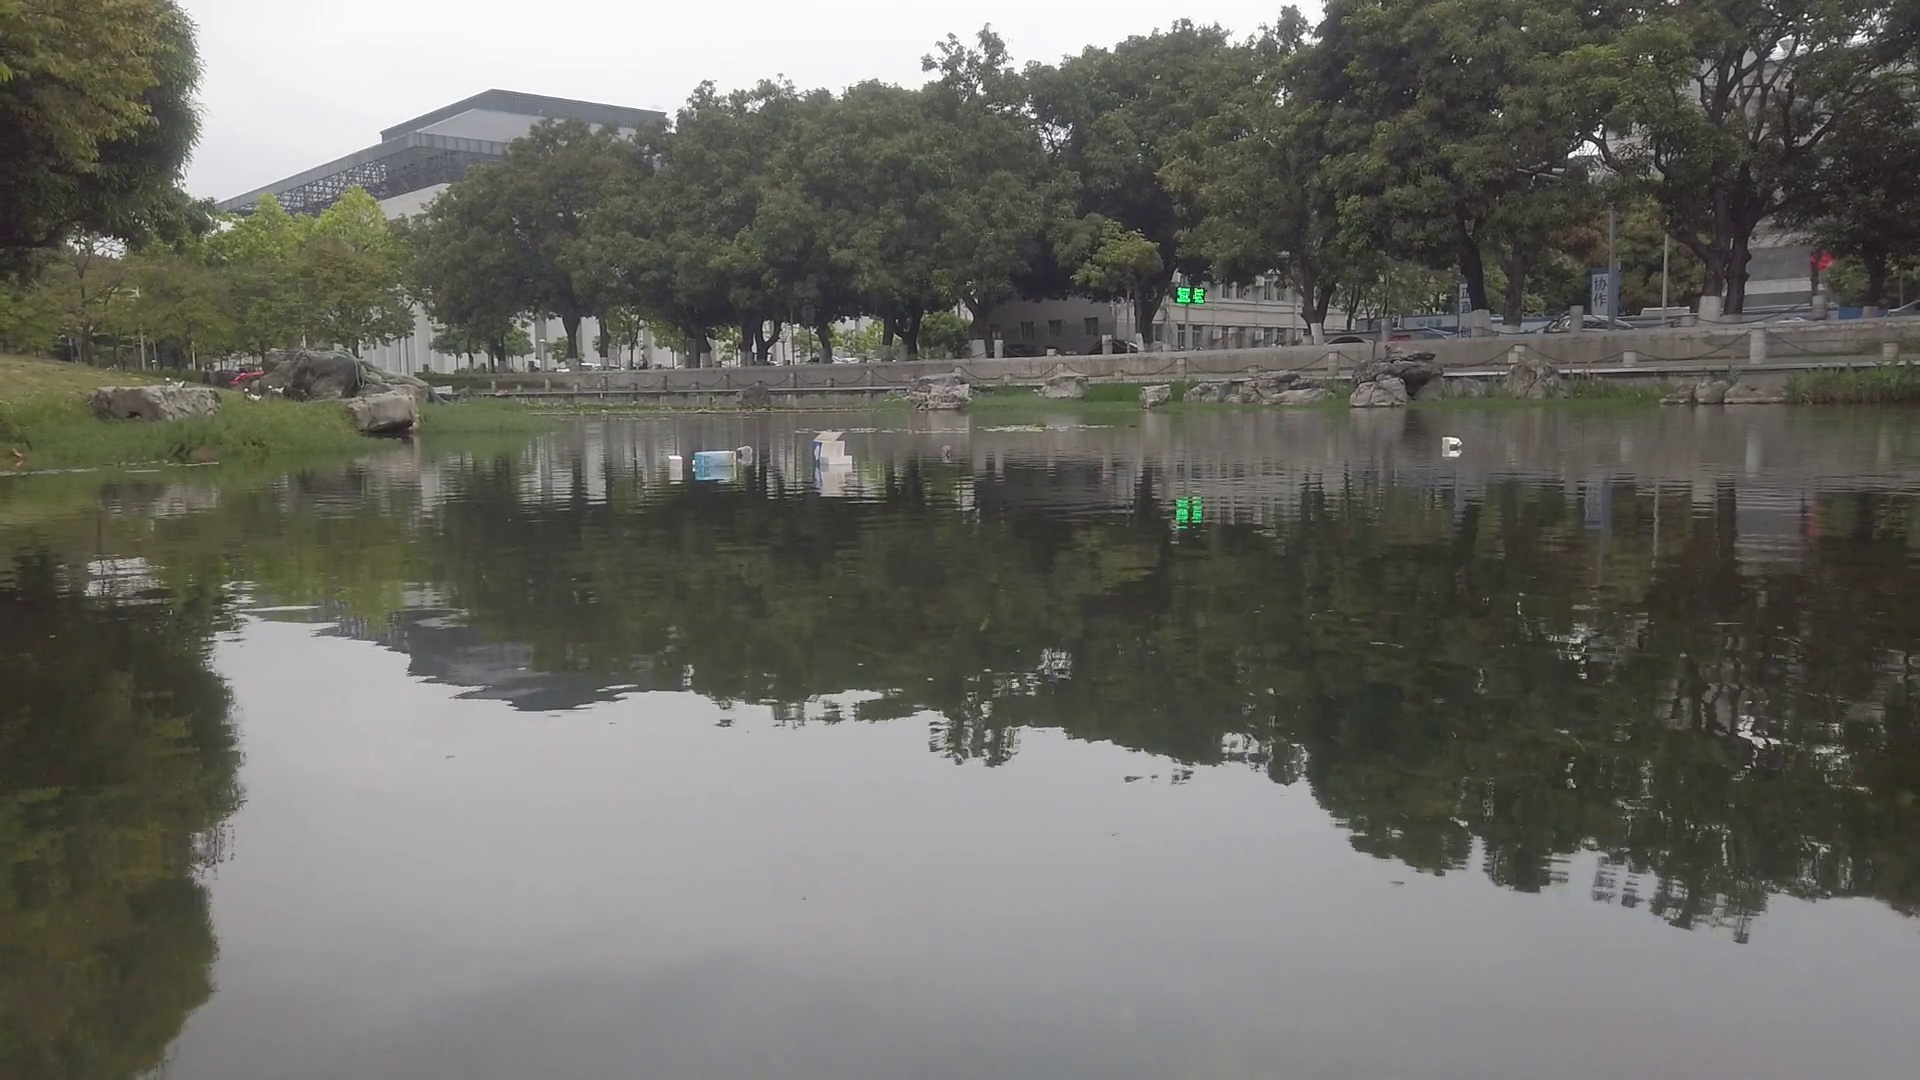bottle: (741, 443, 752, 463)
carton: (812, 431, 851, 469), (694, 448, 736, 471), (1441, 433, 1462, 454), (669, 455, 686, 473)
